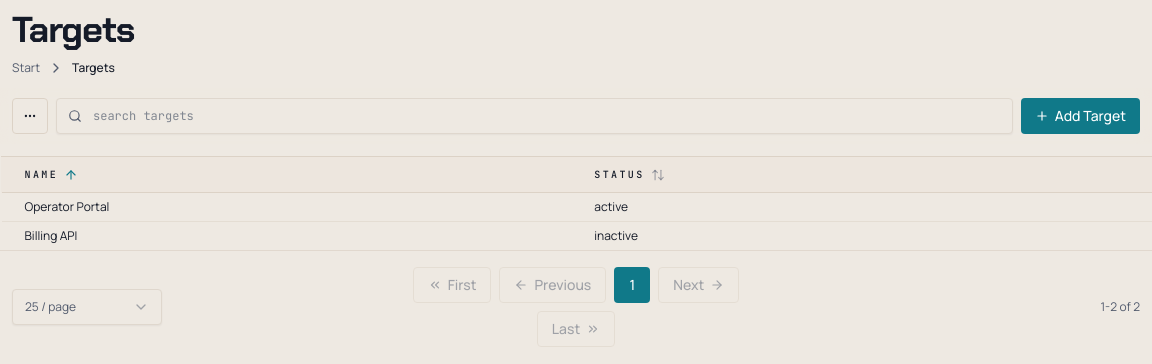
Test: ListPage › renders a minimal import control and forwards the selected json file
What coordinates should you click on to do the following:
click the button named "More actions"
I would click on:
 (30, 116)
Its box is [12,98,48,134].
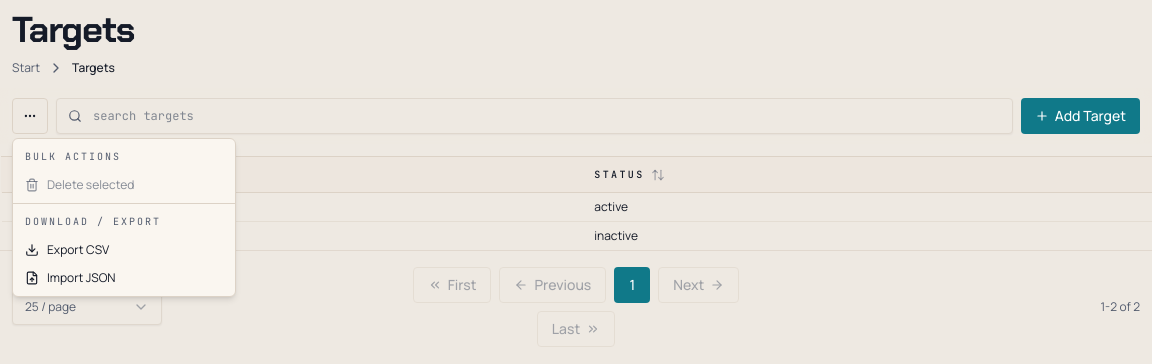
Expected: the element that starts with "Bulk actions" is shown, [12,98,1140,134]
Expected: the menu item "Import JSON" is shown, [13,264,235,292]
